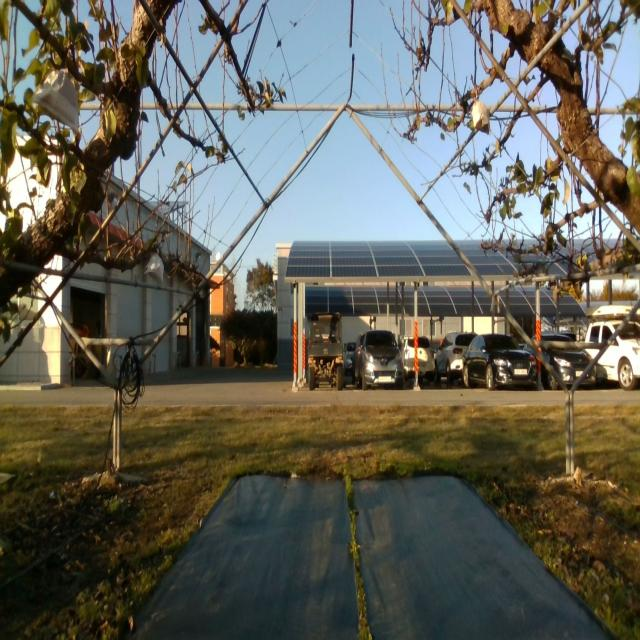pearbags: (31, 69, 79, 130), (472, 90, 491, 134), (144, 248, 164, 285)
